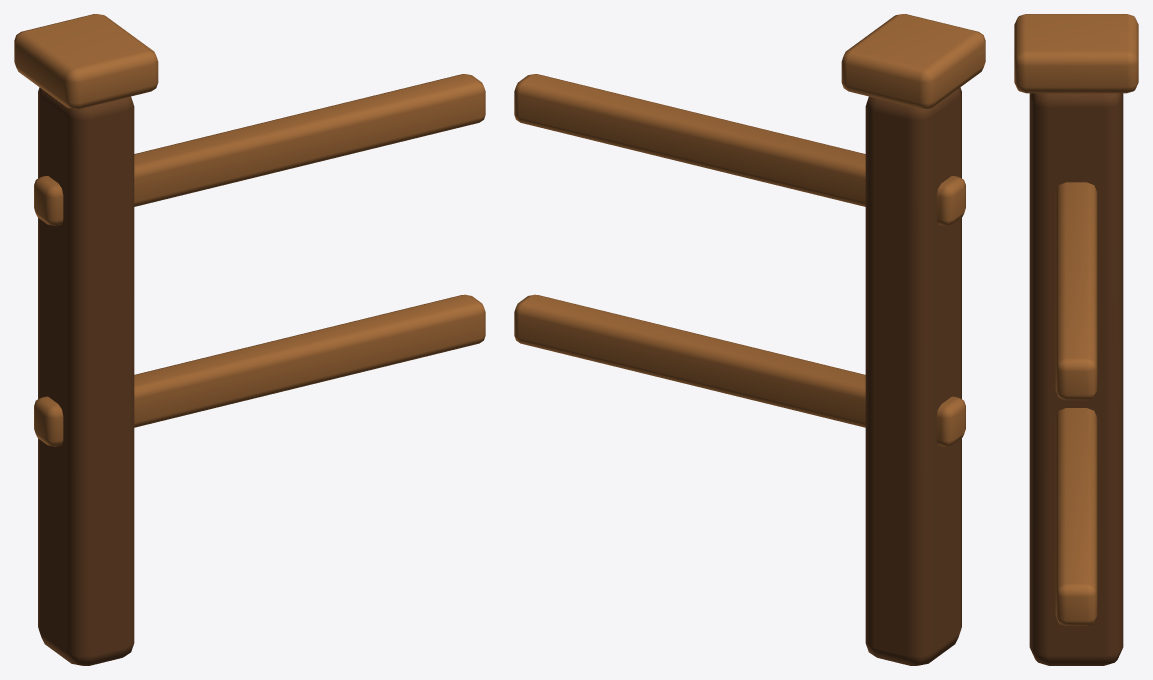
File: Buildings__fence.glb
The picture shows the model from 3 angles, left to right: view 1: azimuth 30°, elevation 25°; view 2: azimuth 150°, elevation 25°; view 3: azimuth 270°, elevation 25°; orthographic projection. The views are drawn at different scales.
Parts seen in each view (by area): view 1: fence_mesh; view 2: fence_mesh; view 3: fence_mesh.
Boxes of the visible parts, bbox=[...] form: fence_mesh: bbox=[14, 14, 485, 665]; fence_mesh: bbox=[514, 14, 985, 665]; fence_mesh: bbox=[1014, 14, 1138, 665].
Bounding box in the file's own units: 0.5 × 0.6645 × 0.12.
